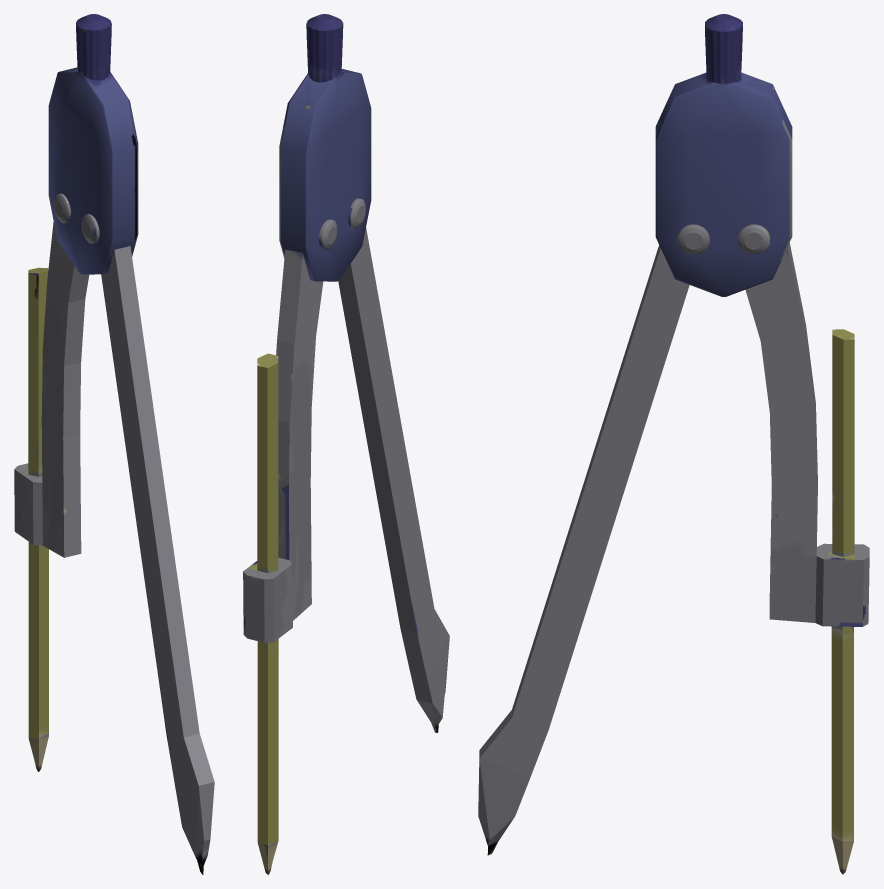
Rendered from math compass.fbx.
The picture shows the model from 3 angles, left to right: view 1: azimuth 30°, elevation 25°; view 2: azimuth 150°, elevation 25°; view 3: azimuth 270°, elevation 25°; orthographic projection. The views are drawn at different scales.
Parts seen in each view (by area): view 1: Cube, Cube.002; view 2: Cube, Cube.002; view 3: Cube, Cube.002.
Part boxes in pixels (left/top/right/bottom): Cube: left=14, top=14, right=138, bottom=771; Cube.002: left=101, top=246, right=214, bottom=874; Cube: left=243, top=14, right=371, bottom=874; Cube.002: left=338, top=227, right=449, bottom=733; Cube: left=655, top=14, right=869, bottom=874; Cube.002: left=478, top=245, right=689, bottom=855.
Bounding box in the file's own units: 0.372 × 6.67 × 2.76.
